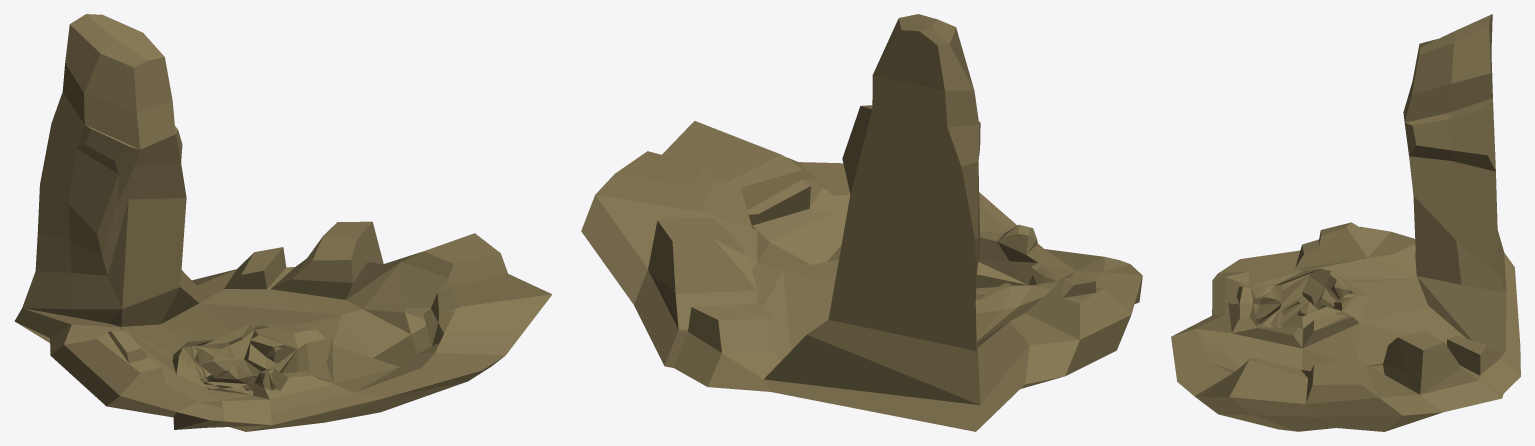
The model's file is unity_uv_1.fbx.
3 views of the same model, side by side, from view 1: azimuth 30°, elevation 25°; view 2: azimuth 150°, elevation 25°; view 3: azimuth 270°, elevation 25° (orthographic). The views are drawn at different scales.
Parts seen in each view (by area): view 1: 平面.002; view 2: 平面.002; view 3: 平面.002.
Boxes of the visible parts, x1,y1,x2,y2 form: 平面.002: (14, 14, 552, 431); 平面.002: (581, 14, 1142, 431); 平面.002: (1171, 14, 1520, 431).
Size of the model in its own units: 238 by 201 by 194.
